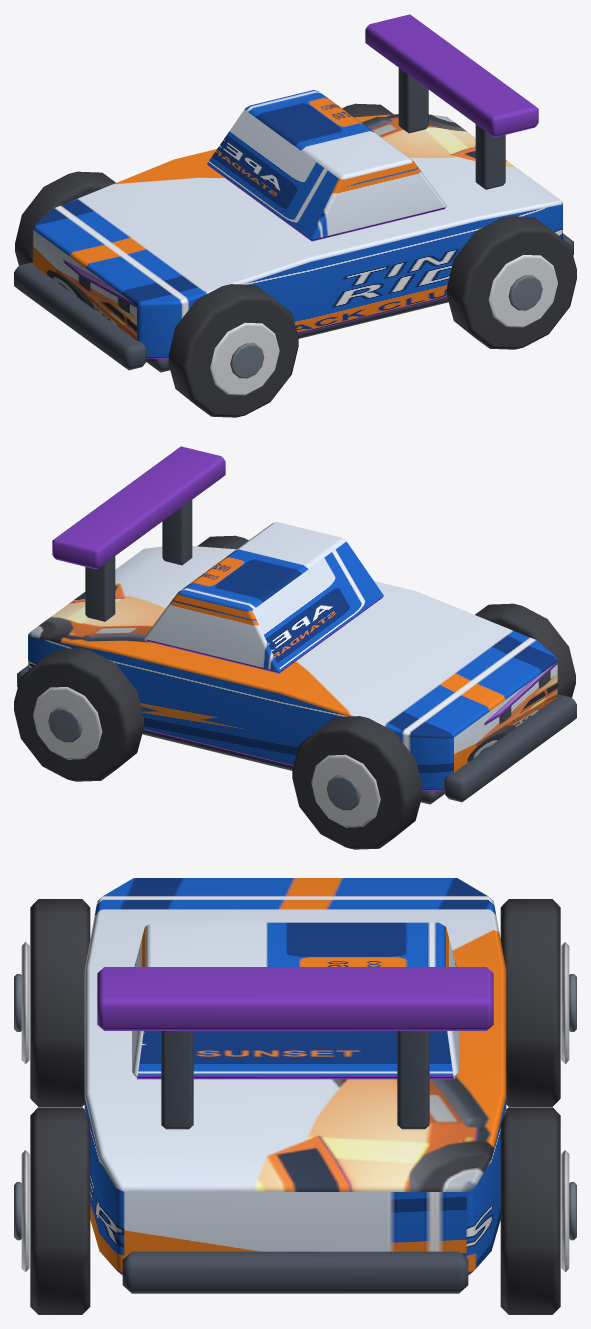
3 views of the same model, one above another, from view 1: azimuth 30°, elevation 25°; view 2: azimuth 150°, elevation 25°; view 3: azimuth 270°, elevation 25° (orthographic). The views are drawn at different scales.
Visible parts, largest first — view 1: TC-05_connected_shell, TC-05_cabin, Tire, Tire.002, rear airfoil, front bumper, Rim, Rim.002, Tire.001, wing support, wing support.001, underbody (+3 smaller); view 2: TC-05_connected_shell, TC-05_cabin, Tire.001, Tire.003, rear airfoil, front bumper, Rim.001, Rim.003, Tire, wing support.001, wing support, underbody (+3 smaller); view 3: TC-05_connected_shell, TC-05_cabin, rear airfoil, rear bumper, Tire.002, Tire.003, Tire, Tire.001, wing support, wing support.001, Rim.002, Rim.003 (+2 smaller).
Boxes of the visible parts, box(x1,y1,x2,y2) form: TC-05_connected_shell: box(33, 114, 562, 358); TC-05_cabin: box(207, 90, 446, 241); Tire: box(168, 284, 298, 417); Tire.002: box(447, 216, 576, 349); rear airfoil: box(365, 14, 538, 137); front bumper: box(14, 262, 146, 370); Rim: box(210, 322, 279, 395); Rim.002: box(488, 255, 557, 327); Tire.001: box(15, 171, 115, 265); wing support: box(475, 124, 505, 189); wing support.001: box(398, 68, 428, 133); underbody: box(146, 298, 448, 372); TC-05_connected_shell: box(28, 546, 557, 790); TC-05_cabin: box(144, 522, 383, 673); Tire.001: box(292, 716, 422, 849); Tire.003: box(14, 648, 143, 781); rear airfoil: box(52, 446, 225, 569); front bumper: box(444, 694, 576, 802); Rim.001: box(311, 754, 380, 827); Rim.003: box(33, 687, 102, 759); Tire: box(475, 603, 575, 697); wing support.001: box(85, 556, 115, 621); wing support: box(162, 500, 192, 565); underbody: box(142, 730, 444, 804); TC-05_connected_shell: box(84, 878, 506, 1275); TC-05_cabin: box(132, 922, 458, 1079); rear airfoil: box(97, 967, 493, 1030); rear bumper: box(122, 1251, 468, 1293); Tire.002: box(30, 1107, 90, 1314); Tire.003: box(500, 1107, 560, 1314); Tire: box(30, 899, 90, 1106); Tire.001: box(500, 899, 560, 1106); wing support: box(161, 1031, 193, 1129); wing support.001: box(397, 1031, 429, 1129); Rim.002: box(21, 1150, 29, 1271); Rim.003: box(561, 1150, 569, 1271).
Bounding box in the file's own units: 345 × 159 × 243.
